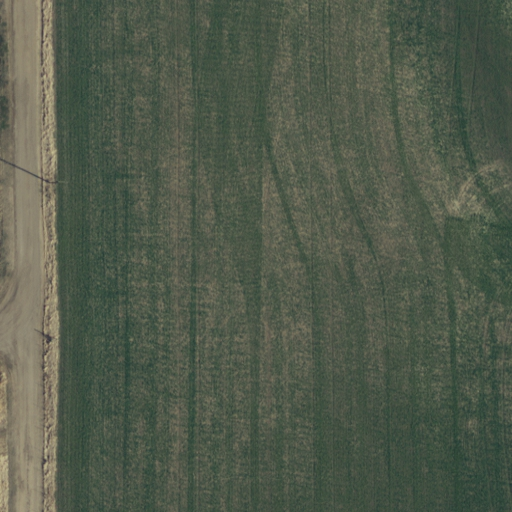DT: (37, 171, 75, 196)
